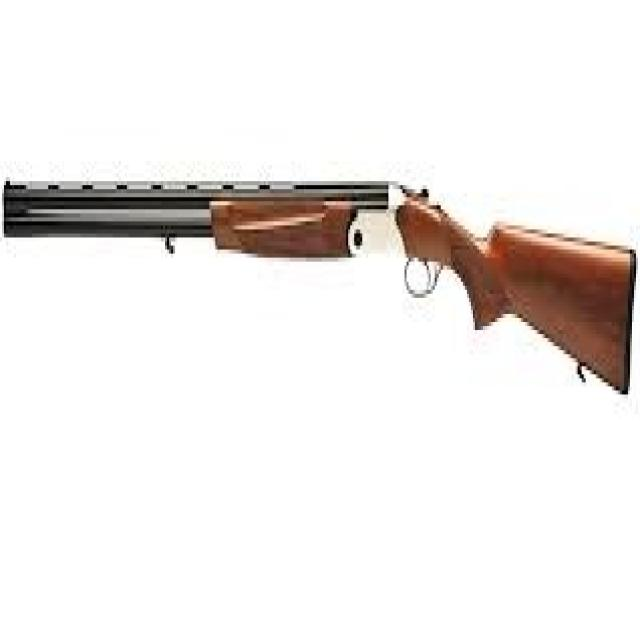rifle: (1, 160, 640, 404)
